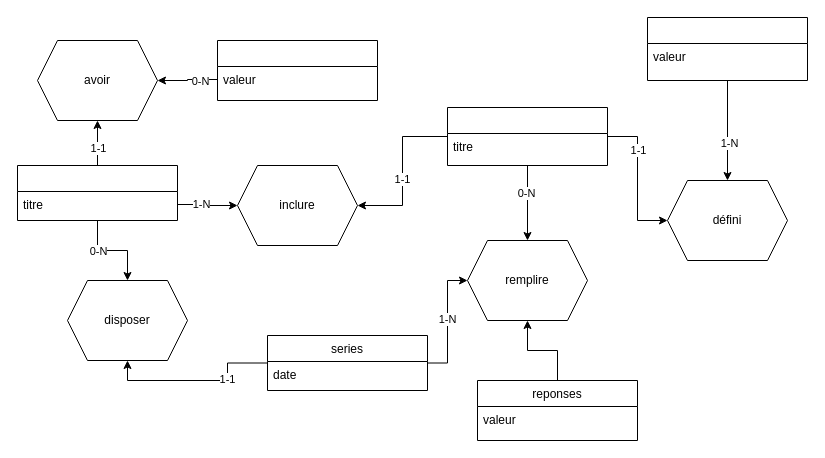
The diagram is 825 pixels wide and 458 high, and some of its shapes have lost their labels. Each missing label, with the box of its shape:
exercices: (16, 164, 178, 220)
questions: (446, 106, 608, 166)
status: (216, 40, 378, 100)
type de valeurs: (646, 16, 808, 80)
